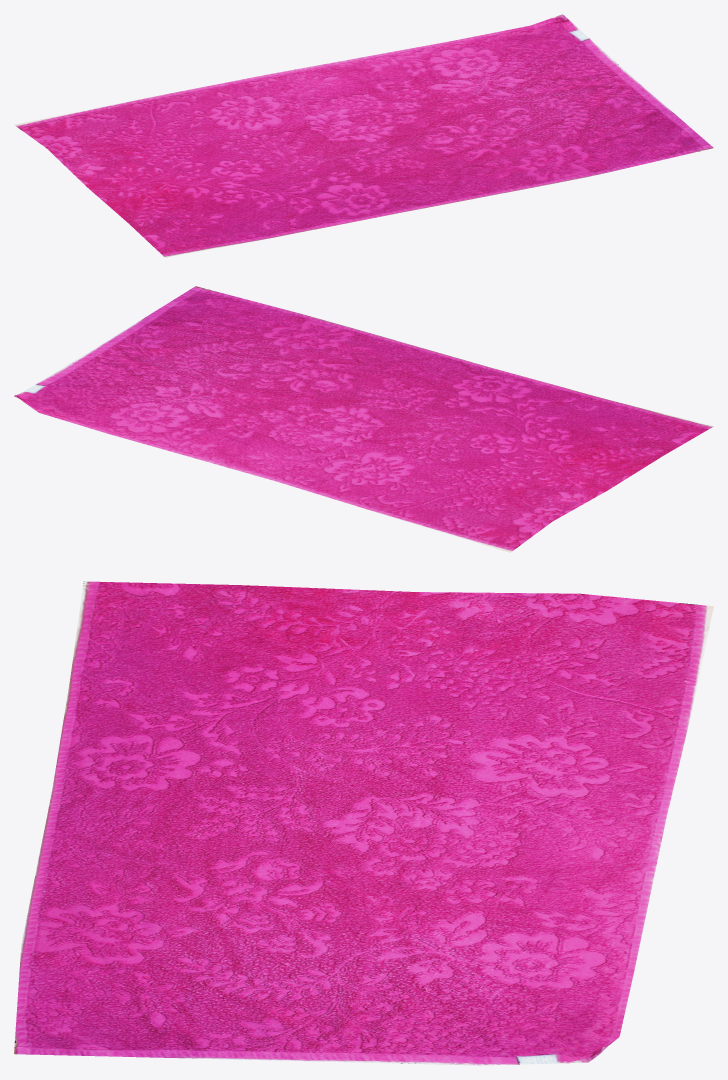
Rendered from pink_towel_tissue_with_flowers_-_scan.glb.
3 renders of one model, top to bottom at view 1: azimuth 30°, elevation 25°; view 2: azimuth 150°, elevation 25°; view 3: azimuth 270°, elevation 25°, orthographic. The views are drawn at different scales.
Parts seen in each view (by area): view 1: Object_2; view 2: Object_2; view 3: Object_2.
Part boxes in pixels (x1,y1,x2,y2): Object_2: (14,14,713,257); Object_2: (14,286,713,552); Object_2: (14,581,713,1065).
Size of the model in its own units: 36.01 by 0.6732 by 22.26.
Materials: 1 (1 with a texture image).
